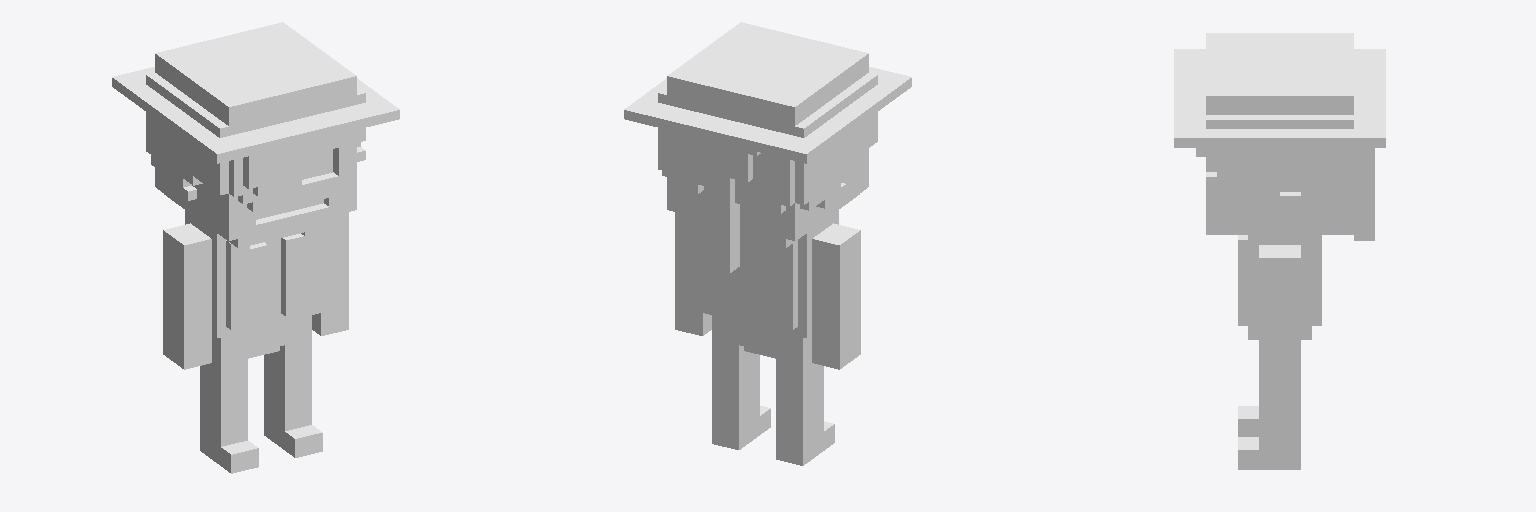
File: pirate1.obj
The picture shows the model from 3 angles: view 1: azimuth 30°, elevation 25°; view 2: azimuth 150°, elevation 25°; view 3: azimuth 270°, elevation 25°; orthographic projection.
Visible parts, largest first — view 1: object 1; view 2: object 1; view 3: object 1.
Part boxes in pixels (x1,y1,x2,y2): object 1: (112, 22, 399, 473); object 1: (624, 22, 911, 465); object 1: (1174, 33, 1385, 469).
Bounding box in the file's own units: 2 × 4 × 2.